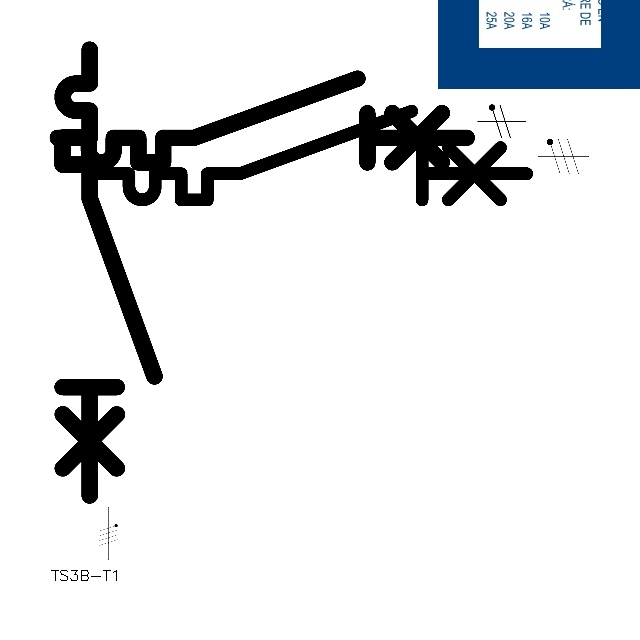interruptor_termomagnetico: (51, 38, 166, 507), (85, 100, 538, 211), (47, 68, 477, 173)
